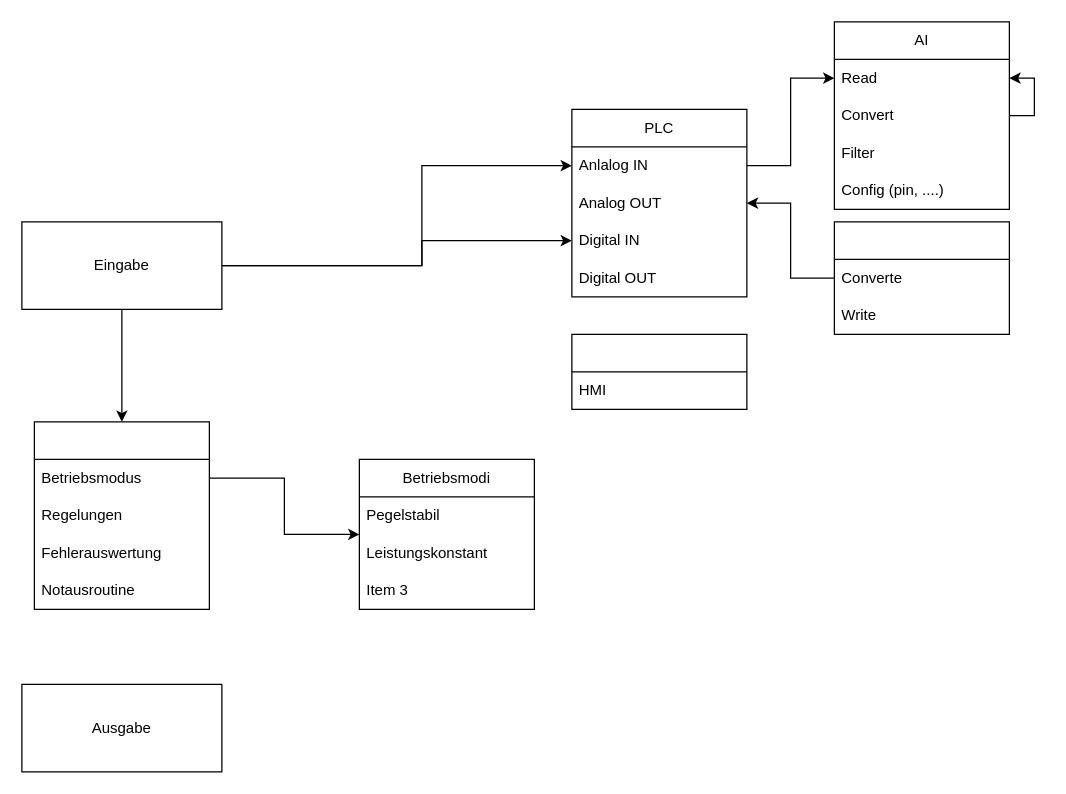
Some shapes in this 1066 by 794 pixel diagram are drawn without their labels. The box of each missing label's shape, as (x1, y1, x2, y2) in pixels:
AQ: (833, 221, 1009, 334)
Schnittstellen: (571, 333, 747, 409)
Verarbeitung: (33, 421, 209, 609)
